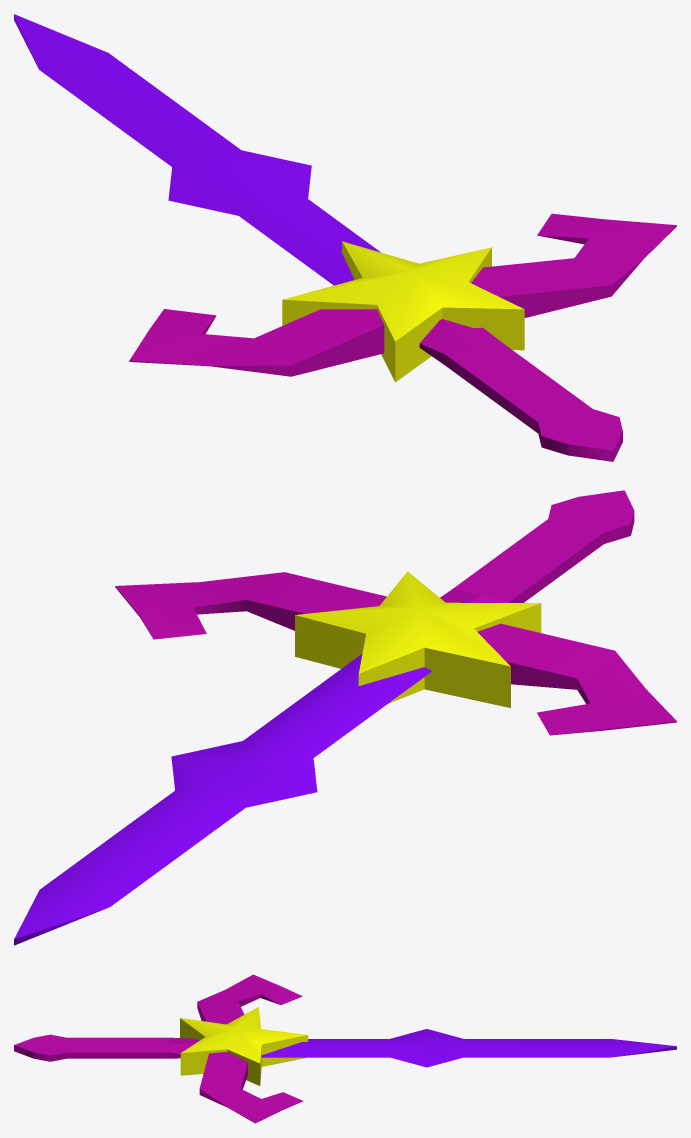
The model's file is starfury.obj.
3 renders of one model, top to bottom at view 1: azimuth 30°, elevation 25°; view 2: azimuth 150°, elevation 25°; view 3: azimuth 270°, elevation 25°, orthographic. The views are drawn at different scales.
Visible parts, largest first — view 1: Object_2; view 2: Object_2; view 3: Object_2.
Part boxes in pixels (x1=…): Object_2: x1=14, y1=14, x2=676, y2=461; Object_2: x1=14, y1=490, x2=676, y2=945; Object_2: x1=14, y1=974, x2=676, y2=1123.
Size of the model in its own units: 0.5822 by 0.067 by 1.1.
